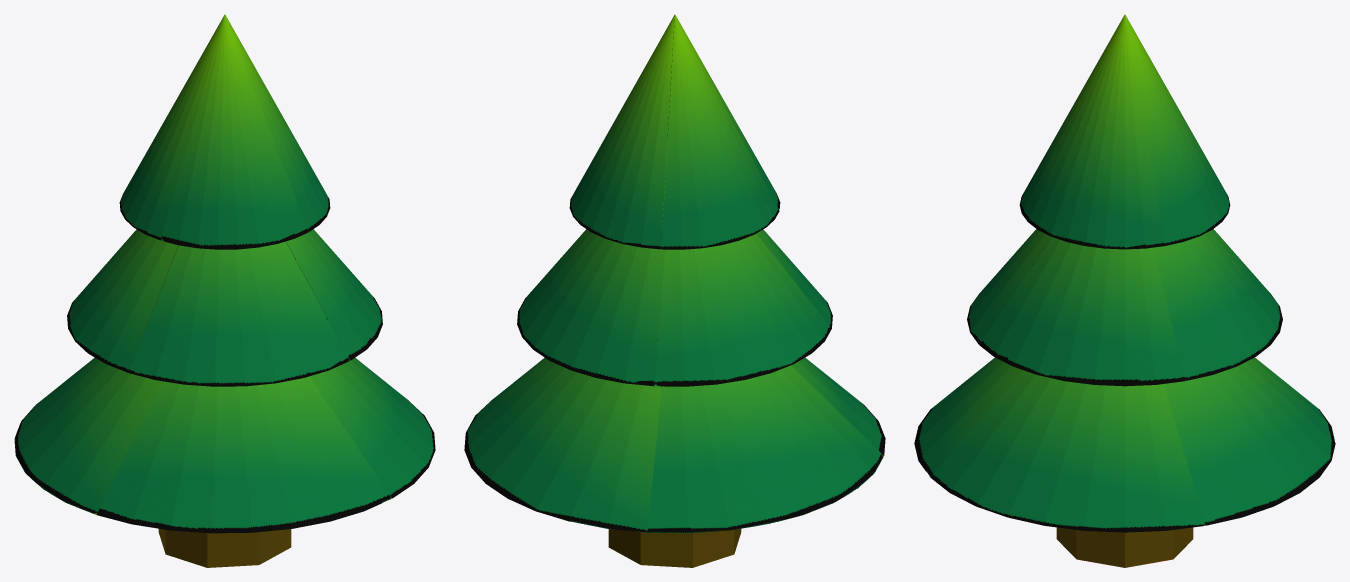
Rendered from brad.obj.
3 views of the same model, side by side, from view 1: azimuth 30°, elevation 25°; view 2: azimuth 150°, elevation 25°; view 3: azimuth 270°, elevation 25° (orthographic).
Parts seen in each view (by area): view 1: Cube.001; view 2: Cube.001; view 3: Cube.001.
Boxes of the visible parts, left/top/right/bottom form: Cube.001: left=14, top=14, right=435, bottom=567; Cube.001: left=464, top=14, right=885, bottom=567; Cube.001: left=914, top=14, right=1335, bottom=567.
Bounding box in the file's own units: 0.7863 × 1.08 × 0.7863.
